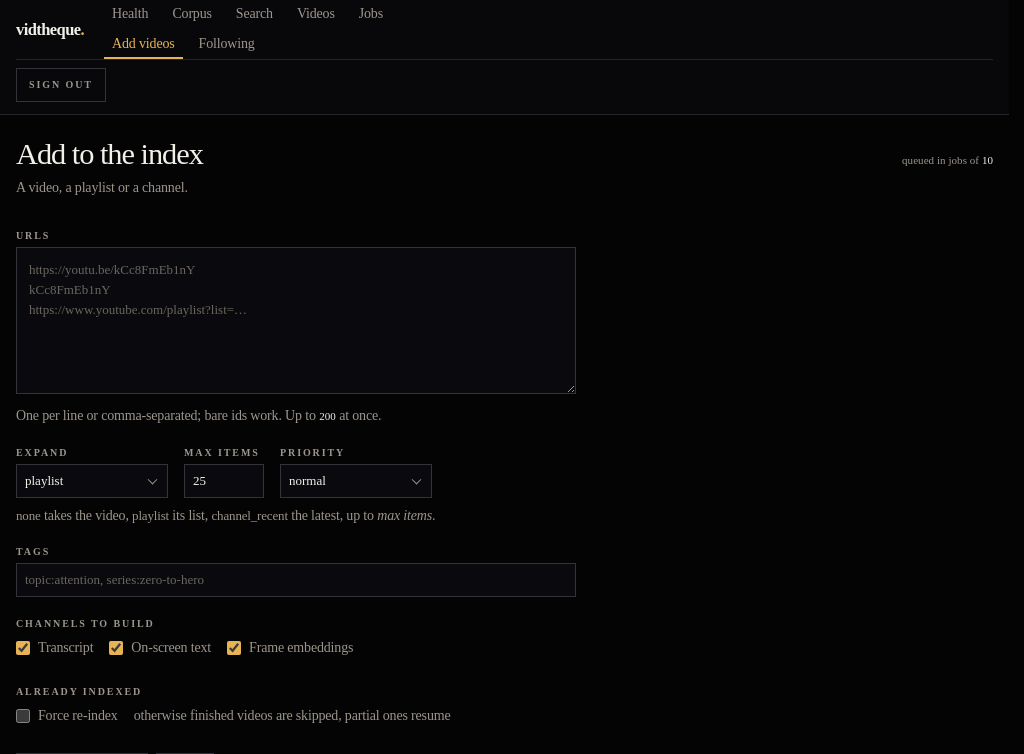
Test: the index form › the refusals › prints the form's own bounds in the instance's words
Type "vid00000000" into the text box labelled "URLs".
click(296, 321); type("vid00000000")  # box x1=16 y1=247 x2=576 y2=394
(page scrolled)
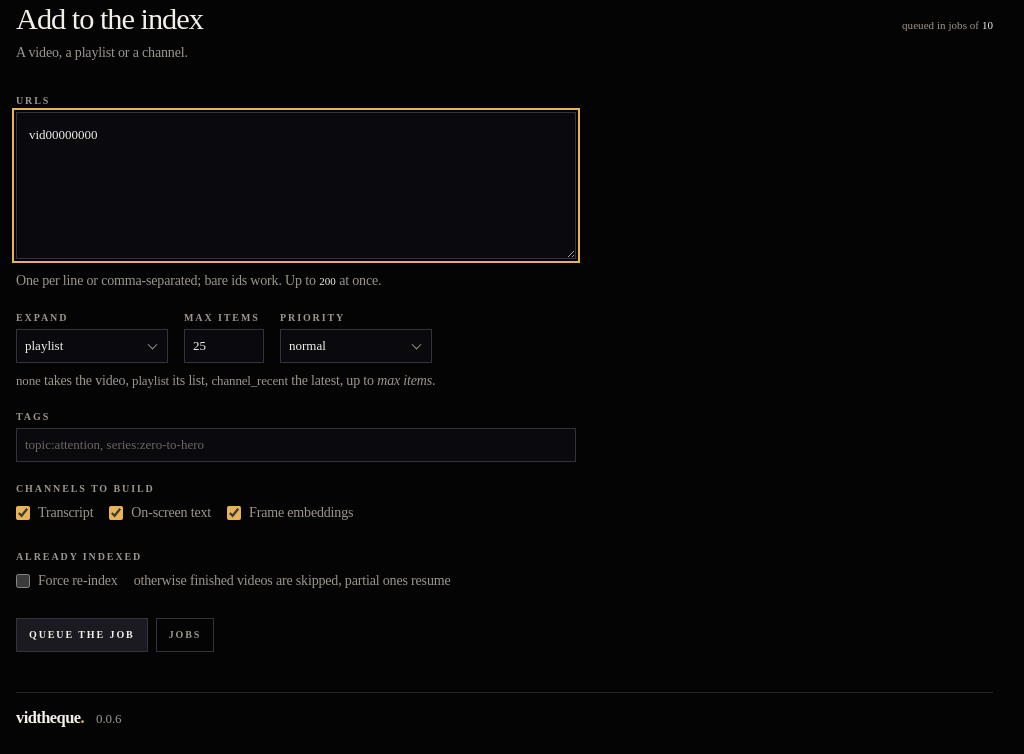
Click the button "Queue the job".
click(82, 635)  # box x1=16 y1=618 x2=148 y2=652
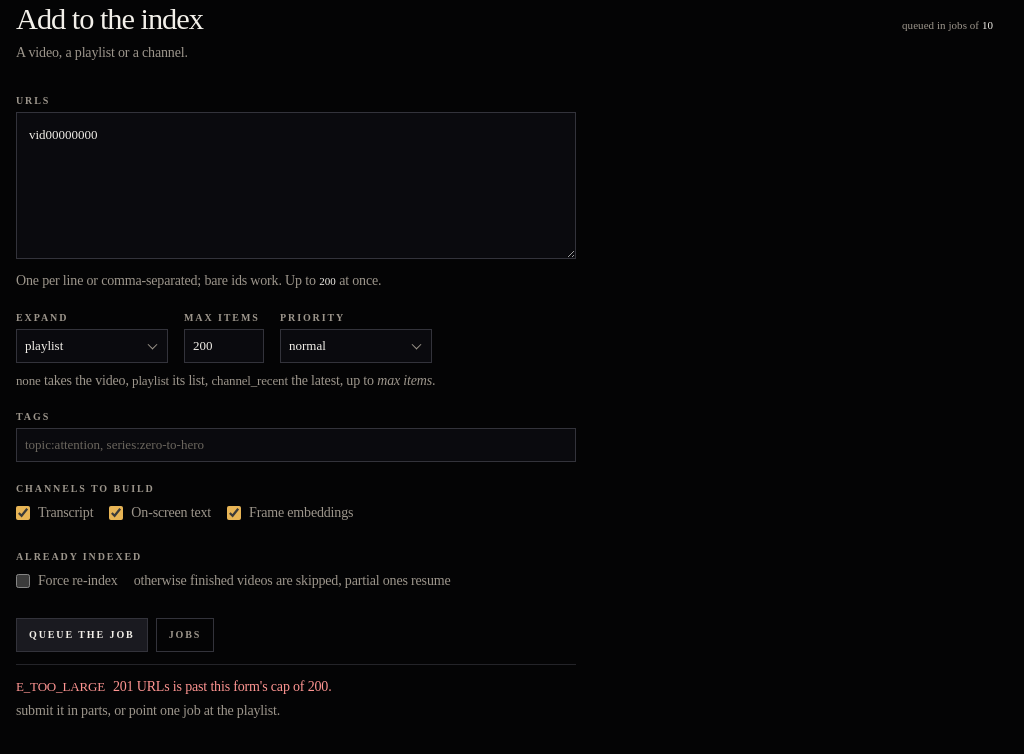
Now the text "201 URLs is past this form's cap of 200." is shown, box x1=113 y1=677 x2=332 y2=697
Now the text "E_TOO_LARGE" is shown, box x1=16 y1=678 x2=105 y2=696
Now the text "submit it in parts, or point one job at the playlist." is shown, box x1=16 y1=703 x2=280 y2=718
